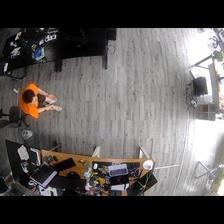normal: (17, 80, 63, 120)
